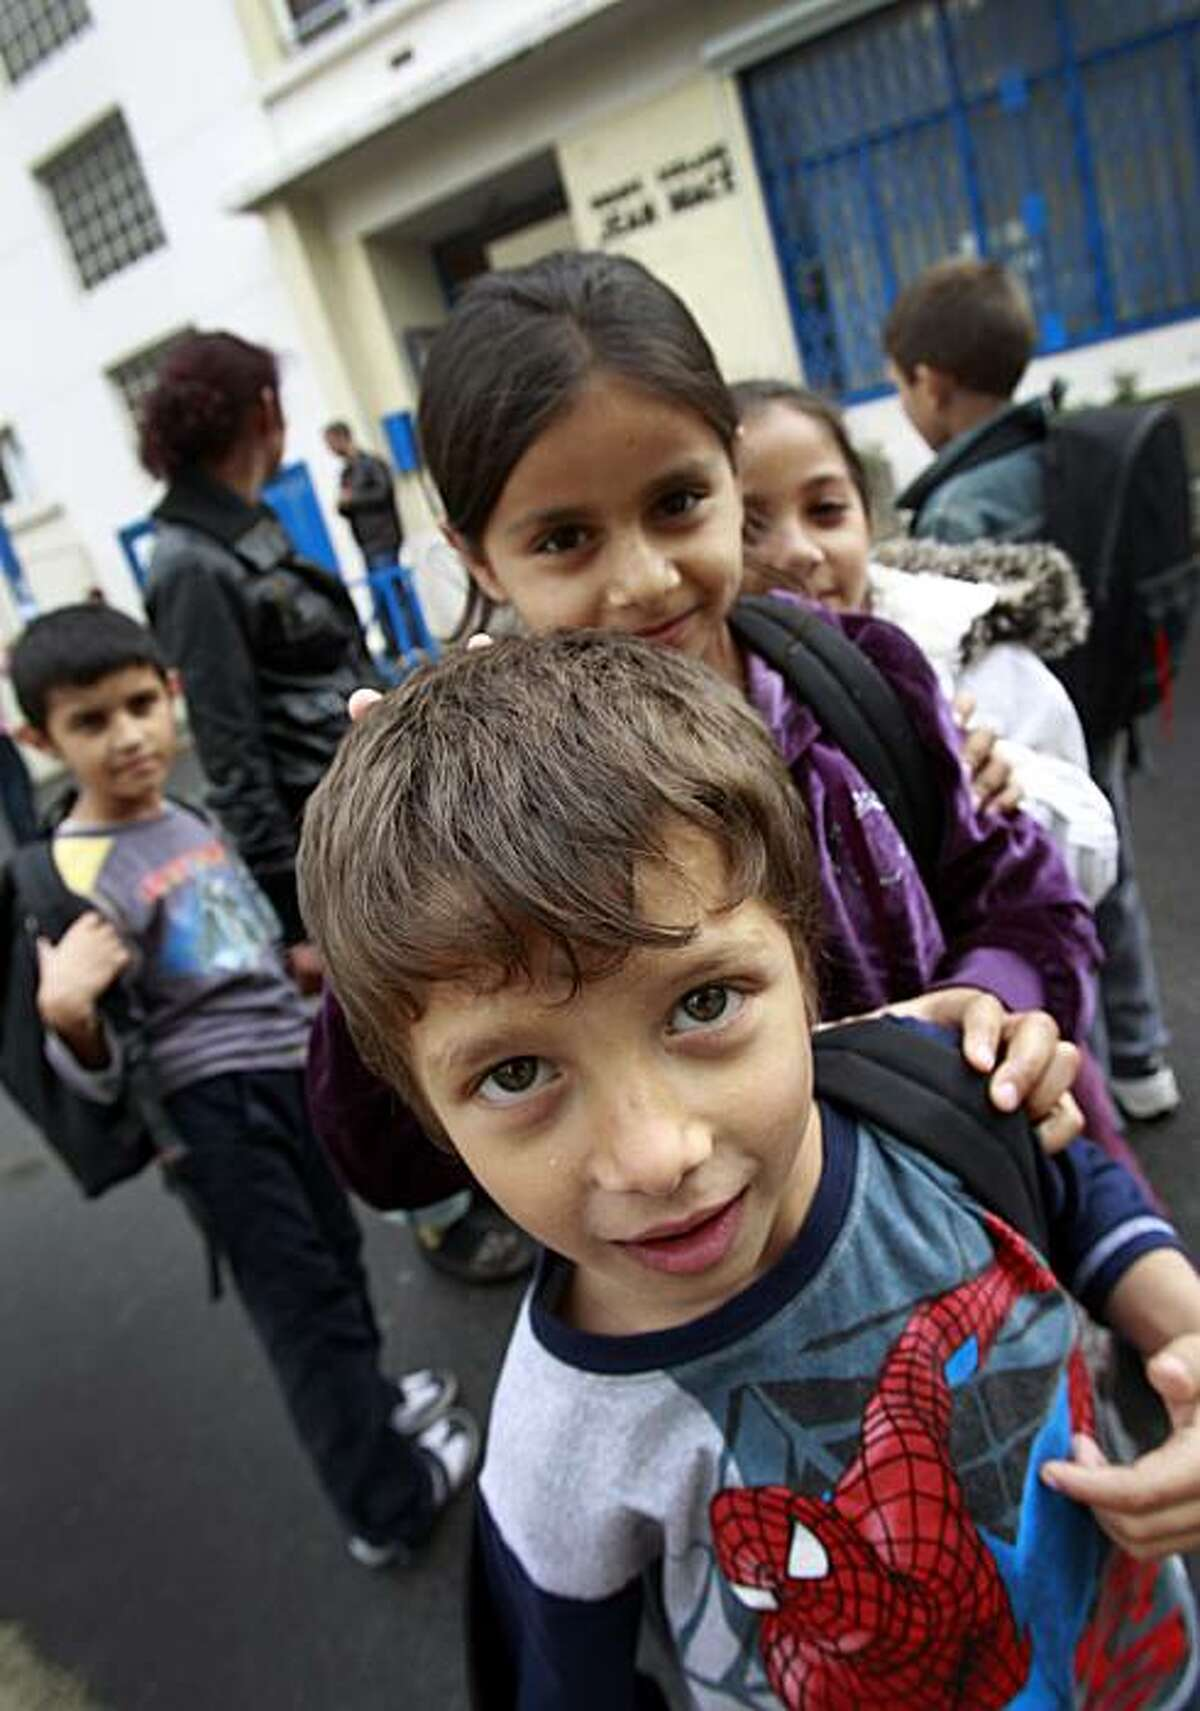human: (260, 621, 1200, 1711), (380, 214, 1144, 1167), (687, 337, 1180, 937)
